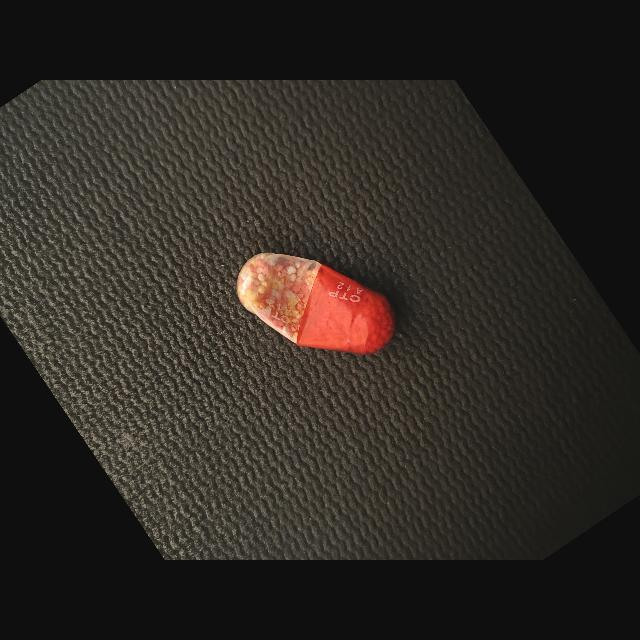Defective Capsule: (237, 253, 395, 354)
